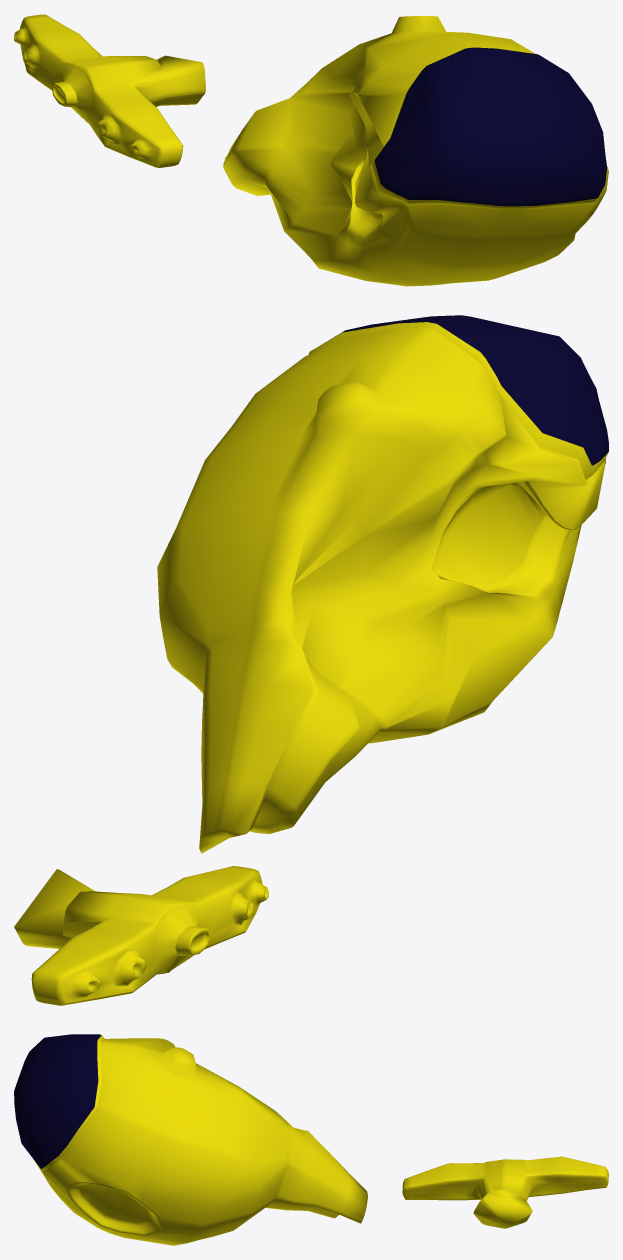
The model's file is DestroyedSub.fbx.
The picture shows the model from 3 angles, top to bottom: view 1: azimuth 30°, elevation 25°; view 2: azimuth 150°, elevation 25°; view 3: azimuth 270°, elevation 25°; orthographic projection. The views are drawn at different scales.
Parts seen in each view (by area): view 1: Body, Body.001; view 2: Body, Body.001; view 3: Body, Body.001.
Boxes of the visible parts, x1,y1,x2,y2 form: Body: (223, 16, 608, 286); Body.001: (14, 14, 205, 167); Body: (157, 315, 608, 853); Body.001: (14, 866, 268, 1005); Body: (14, 1034, 367, 1245); Body.001: (402, 1156, 608, 1228).
Bounding box in the file's own units: 321 × 324 × 937.
